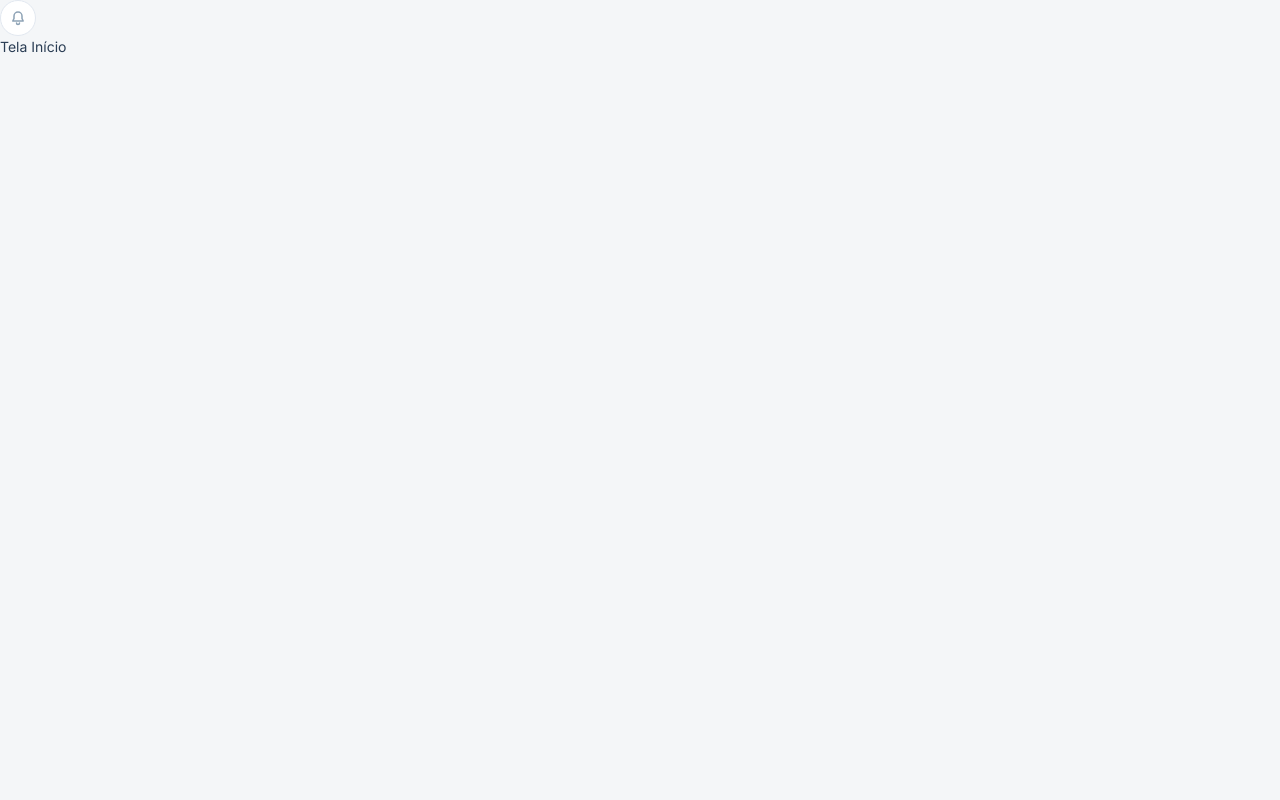
Test: SinoNotificacoes › renderiza aviso com acesso_revogado sem link, permitindo apenas marcar como lida
Later steps or results of the test are not shown.
Click the button named "notificações" at (18, 18), box [0, 0, 36, 36]
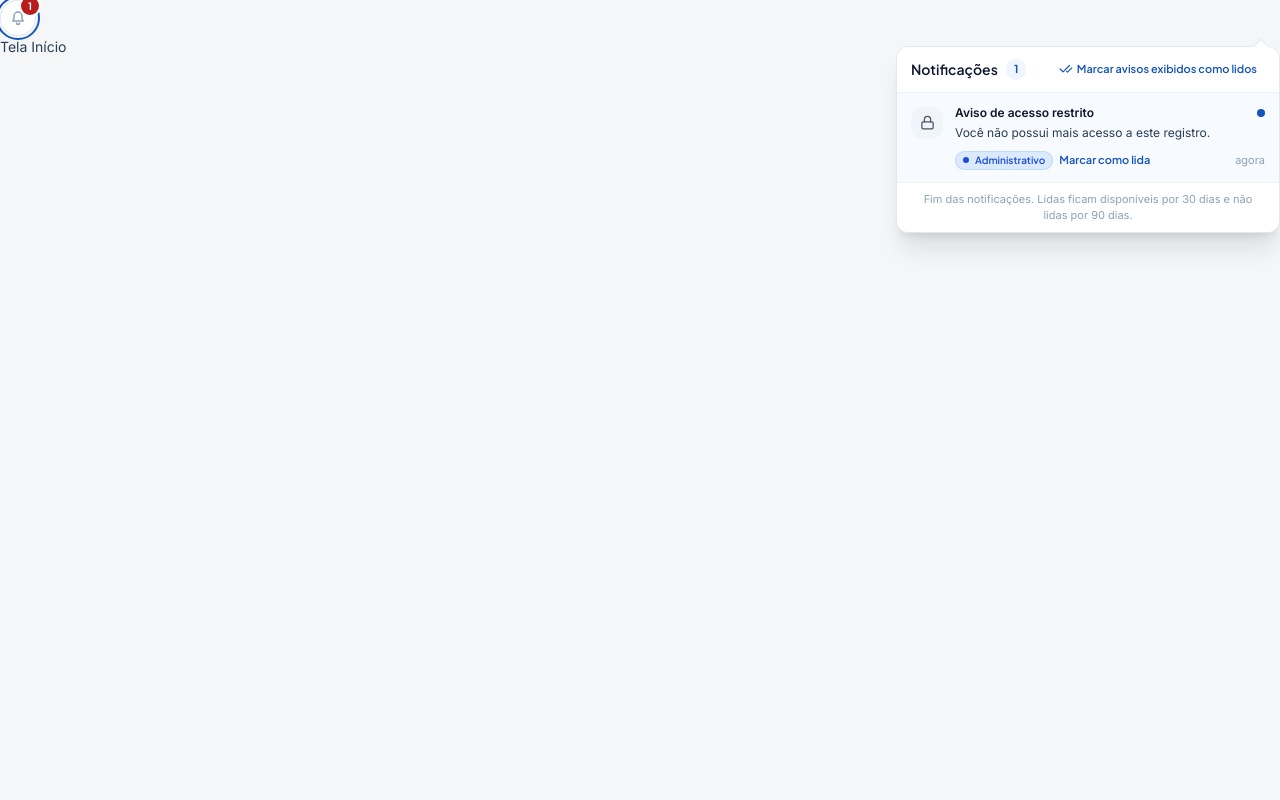
Check: the element with test id "notificacao-revogada-25" is shown, box [897, 92, 1279, 182]
